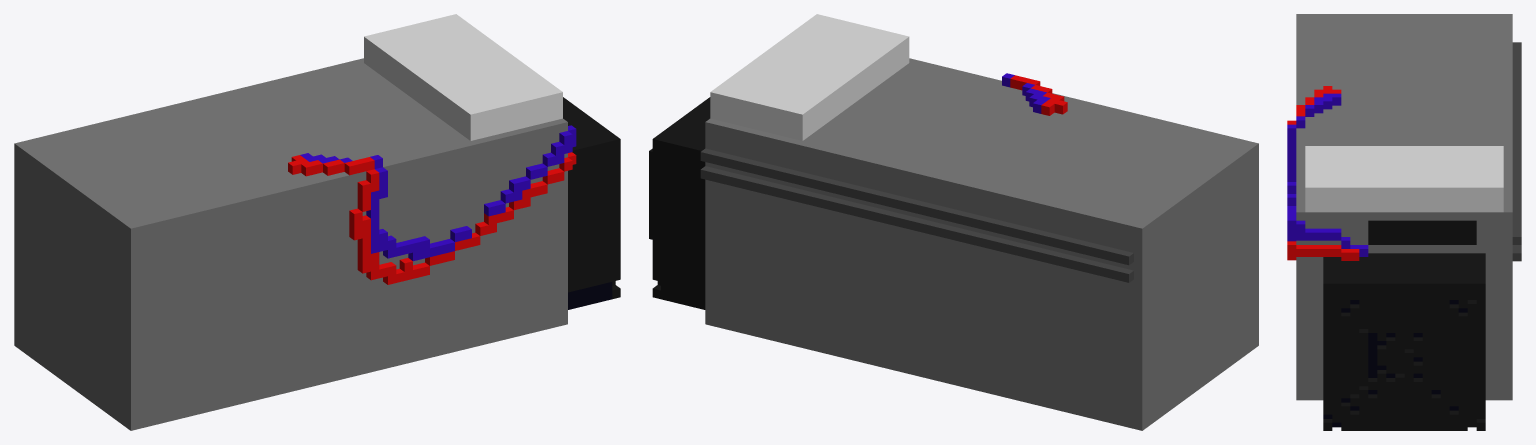
The model's file is asicminerdemo.gltf.
3 renders of one model, left to right at view 1: azimuth 30°, elevation 25°; view 2: azimuth 150°, elevation 25°; view 3: azimuth 270°, elevation 25°, orthographic. The views are drawn at different scales.
Parts seen in each view (by area): view 1: miner; view 2: miner; view 3: miner.
Boxes of the visible parts, x1=… form: miner: x1=14, y1=14, x2=620, y2=430; miner: x1=649, y1=14, x2=1258, y2=430; miner: x1=1287, y1=14, x2=1521, y2=430.
Size of the model in its own units: 6.1 by 2.6 by 2.6.
Materials: 1 (1 with a texture image).
